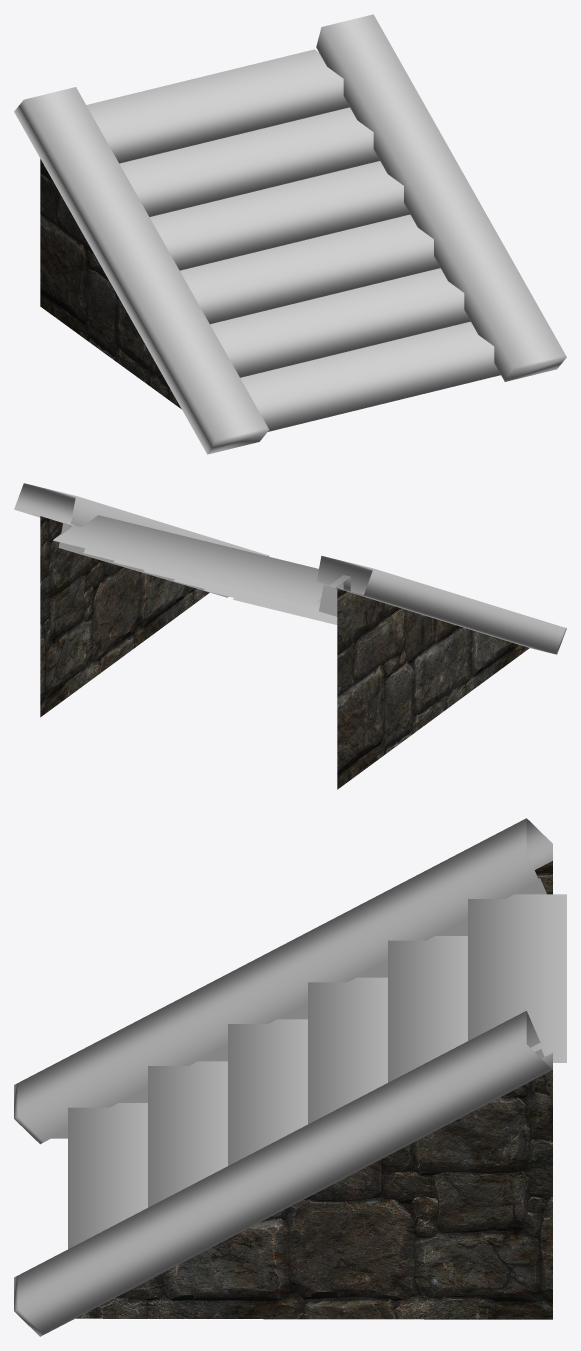
The model's file is Stairs1.fbx.
3 renders of one model, top to bottom at view 1: azimuth 30°, elevation 25°; view 2: azimuth 150°, elevation 25°; view 3: azimuth 270°, elevation 25°, orthographic. The views are drawn at different scales.
Parts seen in each view (by area): view 1: polySurface3470; view 2: polySurface3470; view 3: polySurface3470.
Boxes of the visible parts, x1,y1,x2,y2 form: polySurface3470: (14,14,566,454); polySurface3470: (14,483,566,789); polySurface3470: (14,818,566,1336).
Bounding box in the file's own units: 3.66 × 2.27 × 3.78.
